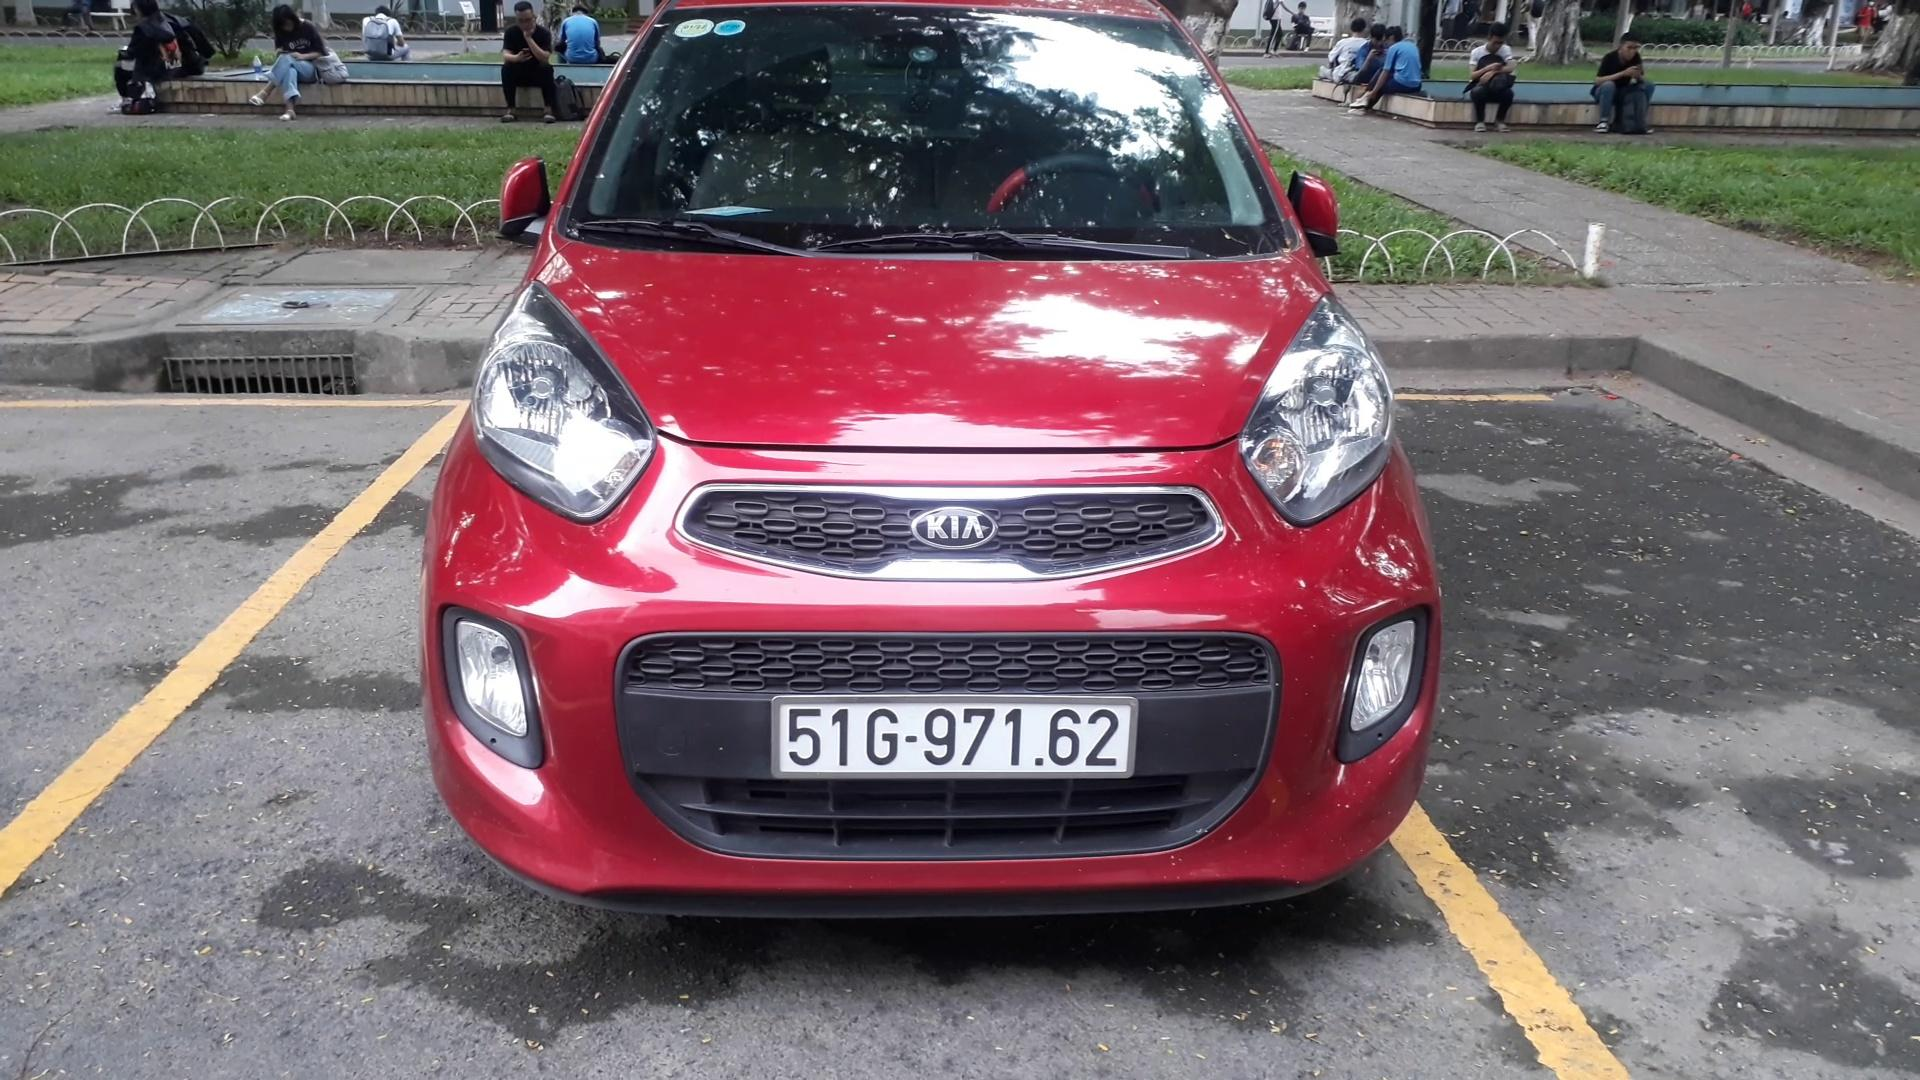numplate: (773, 697, 1143, 790)
